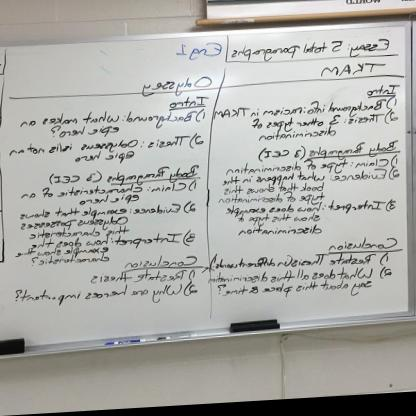Handwritten text: (18, 283, 187, 314), (214, 100, 388, 124), (214, 253, 378, 277), (211, 268, 379, 290), (224, 160, 393, 180), (219, 173, 389, 192), (222, 283, 378, 303), (4, 138, 142, 158), (104, 164, 204, 188), (14, 108, 124, 129), (19, 183, 147, 201), (231, 42, 330, 65), (307, 141, 401, 164), (137, 73, 213, 100), (215, 195, 335, 212), (82, 270, 188, 289), (16, 216, 131, 233), (219, 184, 331, 201), (18, 205, 128, 222), (235, 226, 331, 244), (306, 63, 388, 84), (122, 252, 200, 273), (321, 238, 402, 258), (29, 226, 137, 241), (222, 205, 326, 220), (231, 215, 327, 231), (124, 110, 198, 129), (111, 233, 188, 251), (256, 131, 340, 147), (10, 246, 110, 259), (185, 38, 227, 68), (250, 118, 328, 134), (29, 235, 113, 249), (58, 123, 126, 140), (348, 38, 394, 62), (329, 200, 390, 217), (36, 255, 113, 268), (132, 201, 184, 219), (78, 193, 142, 207), (146, 134, 192, 153), (73, 151, 135, 164), (363, 84, 404, 102), (345, 116, 387, 132), (164, 97, 208, 111), (152, 182, 188, 195), (52, 172, 81, 187), (263, 149, 293, 163), (409, 100, 416, 125)
Whiteboard: (0, 30, 415, 347)
